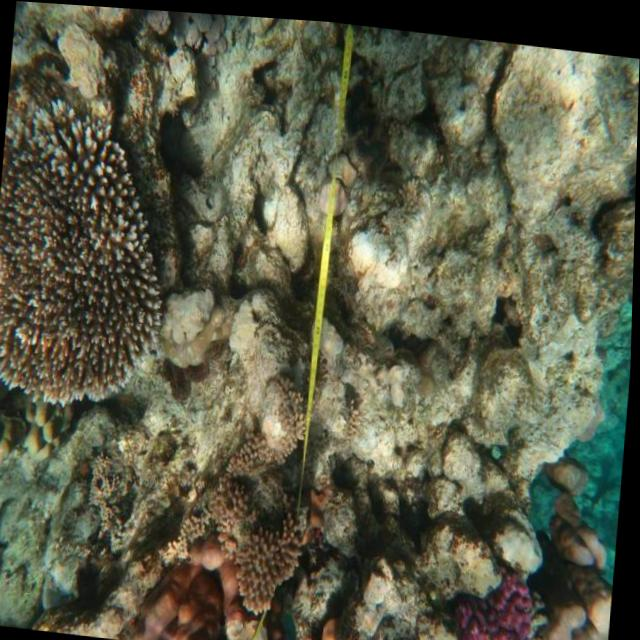Healthy Coral: (449, 559, 548, 640)
